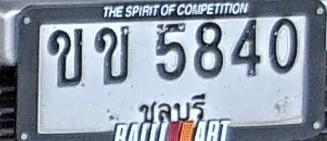0: (269, 18, 297, 74)
4: (232, 18, 260, 76)
5: (156, 23, 186, 80)
8: (194, 21, 223, 78)
A02: (94, 26, 130, 84), (48, 28, 83, 86)
CBI: (137, 91, 208, 123)
